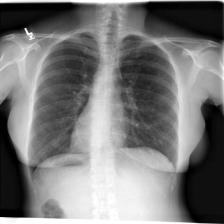normal: (20, 25, 188, 185)
